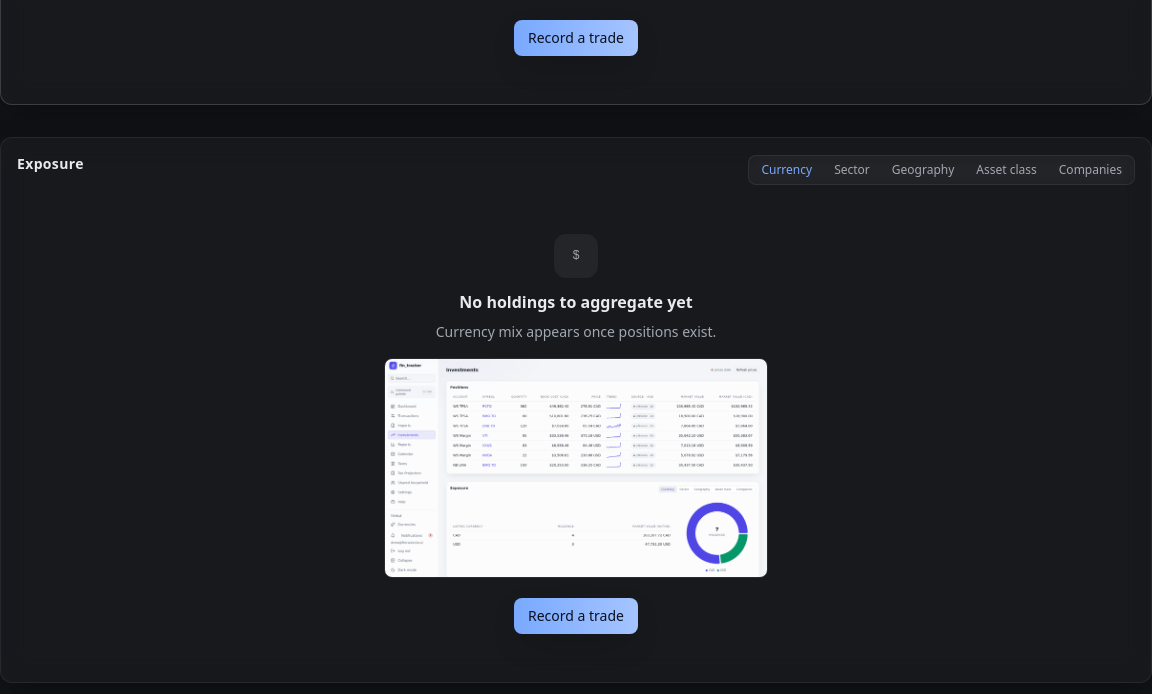
Scenario: M166 — the estimate honesty copy › quotes the estimated share, the dollar amount, and what stays exact
(page scrolled)
Click the tab "Sector": (852, 170) [824,158,880,182]
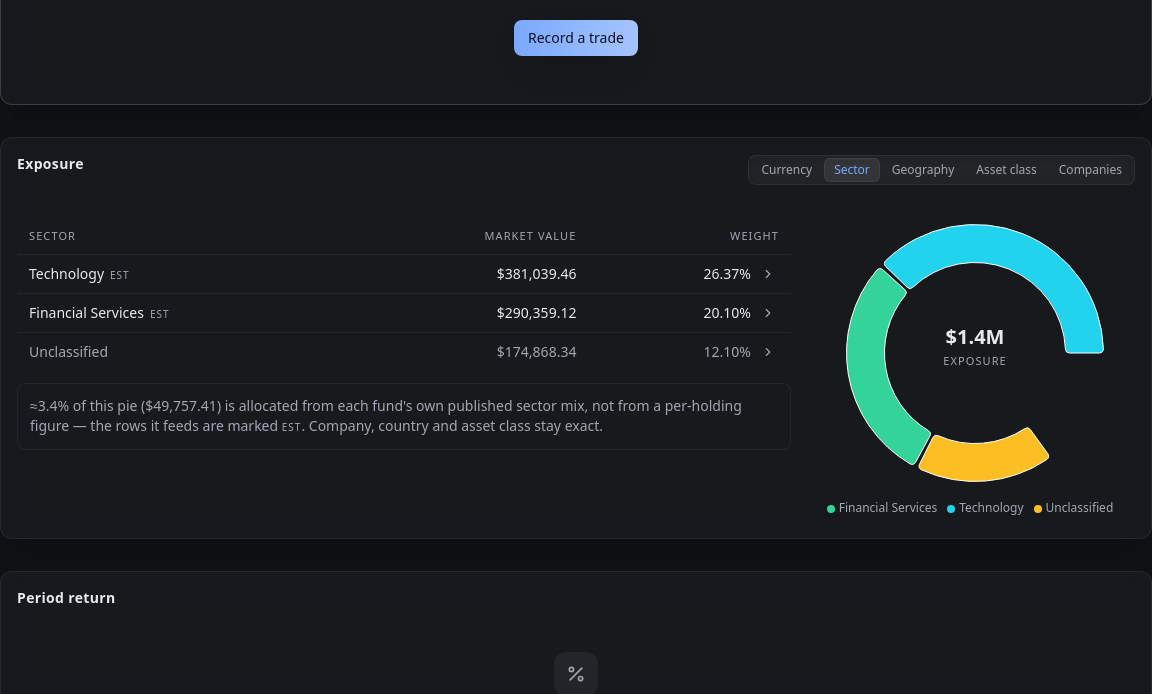
Check: the element named "Exposure breakdown table" is shown, box [17,218,791,372]
Check: the text "published sector mix" is shown, box [30,396,742,436]
Check: the text "≈3.4% of this pie" is shown, box [30,396,778,438]
